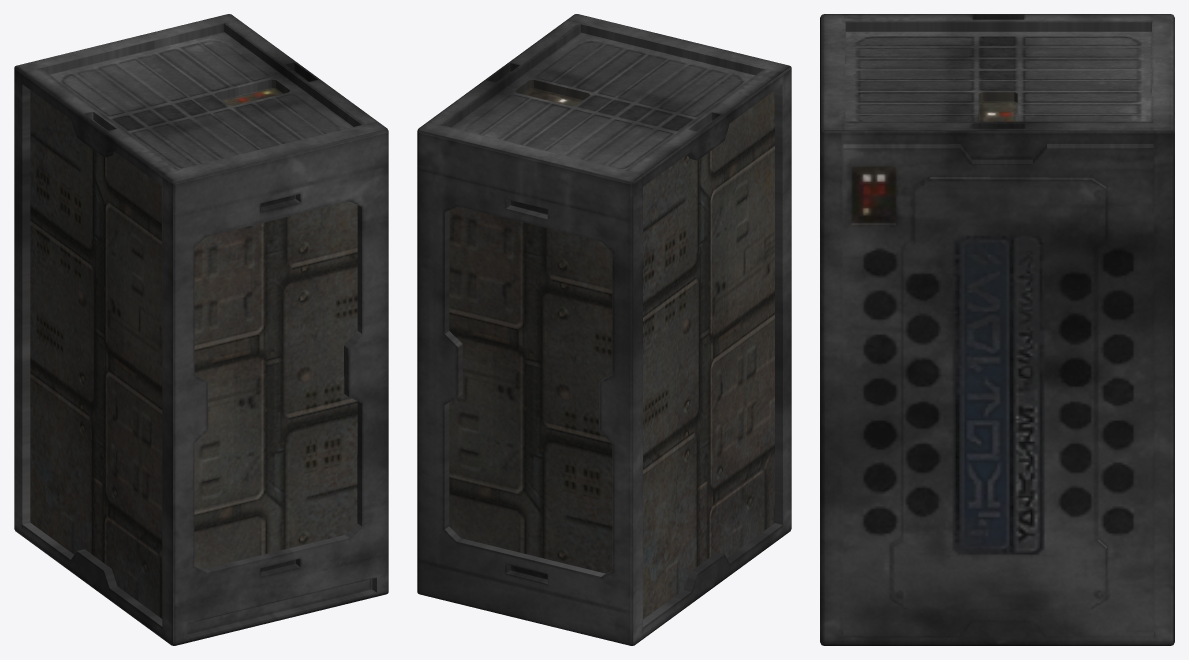
Rendered from machinery_3.dae.
3 renders of one model, left to right at view 1: azimuth 30°, elevation 25°; view 2: azimuth 150°, elevation 25°; view 3: azimuth 270°, elevation 25°, orthographic. The views are drawn at different scales.
Visible parts, largest first — view 1: machinery_3; view 2: machinery_3; view 3: machinery_3.
Boxes of the visible parts, bbox=[...] form: machinery_3: bbox=[14, 14, 388, 645]; machinery_3: bbox=[417, 14, 791, 645]; machinery_3: bbox=[820, 14, 1174, 645].
Bounding box in the file's own units: 0.58 × 0.7 × 1.13.
2 materials, 2 textured.
